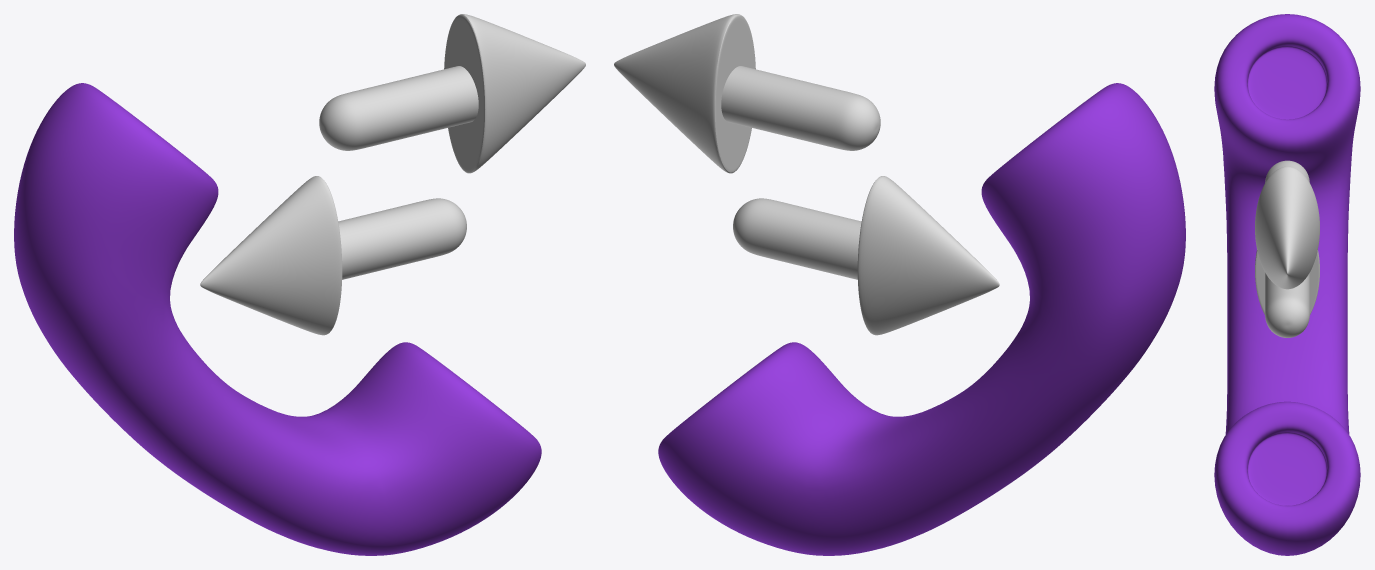
File: call-missed.fbx
3 renders of one model, left to right at view 1: azimuth 30°, elevation 25°; view 2: azimuth 150°, elevation 25°; view 3: azimuth 270°, elevation 25°, orthographic. The views are drawn at different scales.
Visible parts, largest first — view 1: Phone Miss; view 2: Phone Miss; view 3: Phone Miss.
Boxes of the visible parts, x1,y1,x2,y2 form: Phone Miss: [14, 14, 585, 555]; Phone Miss: [614, 14, 1185, 555]; Phone Miss: [1214, 14, 1360, 555].
Size of the model in its own units: 198 by 177 by 57.44.
